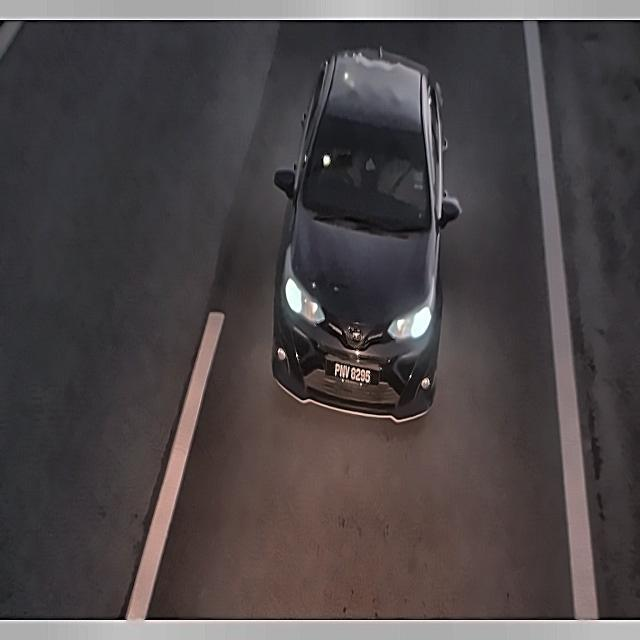car: (321, 352, 384, 394)
